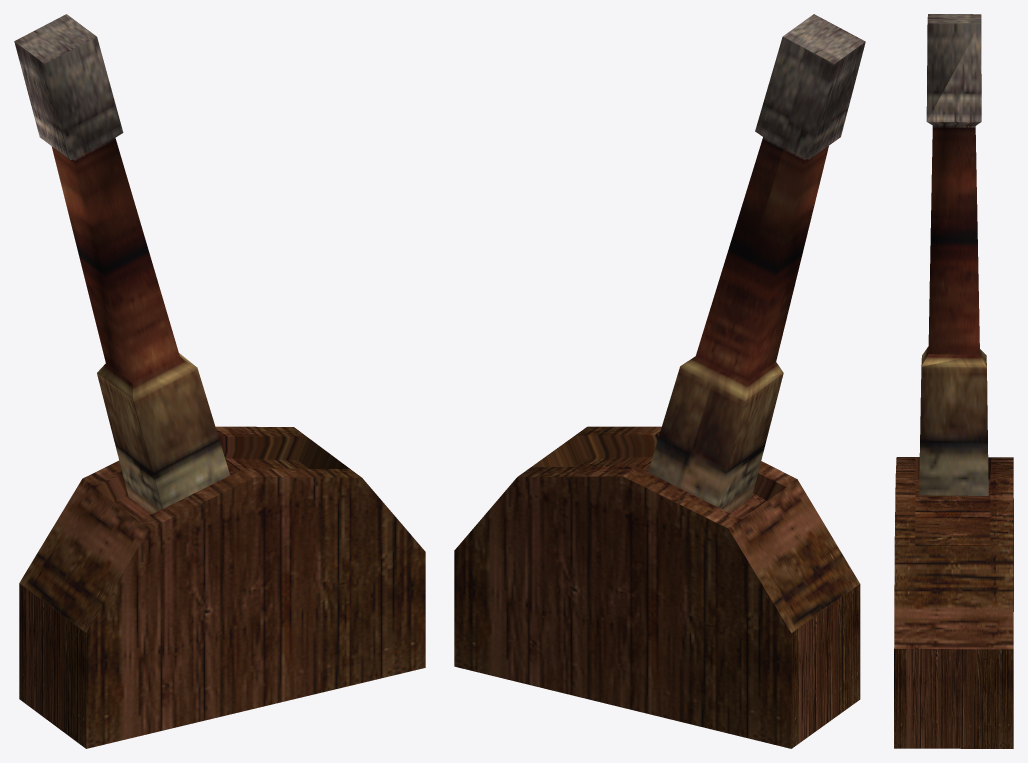
Rendered from button01.FBX.
3 renders of one model, left to right at view 1: azimuth 30°, elevation 25°; view 2: azimuth 150°, elevation 25°; view 3: azimuth 270°, elevation 25°, orthographic. The views are drawn at different scales.
Visible parts, largest first — view 1: sobseat01, objon; view 2: sobseat01, objon; view 3: sobseat01, objon.
Boxes of the visible parts, <box> form: sobseat01: <box>19,426,425,748</box>; objon: <box>14,14,230,513</box>; sobseat01: <box>454,426,860,748</box>; objon: <box>648,14,865,512</box>; sobseat01: <box>894,457,1013,748</box>; objon: <box>919,14,988,495</box>.
Size of the model in its own units: 16.04 by 29.69 by 5.33.
2 materials, 2 textured.
